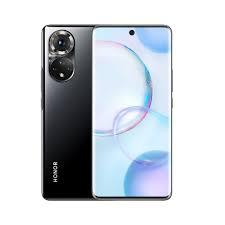Smartphone: (90, 28, 171, 201), (40, 21, 107, 199)
